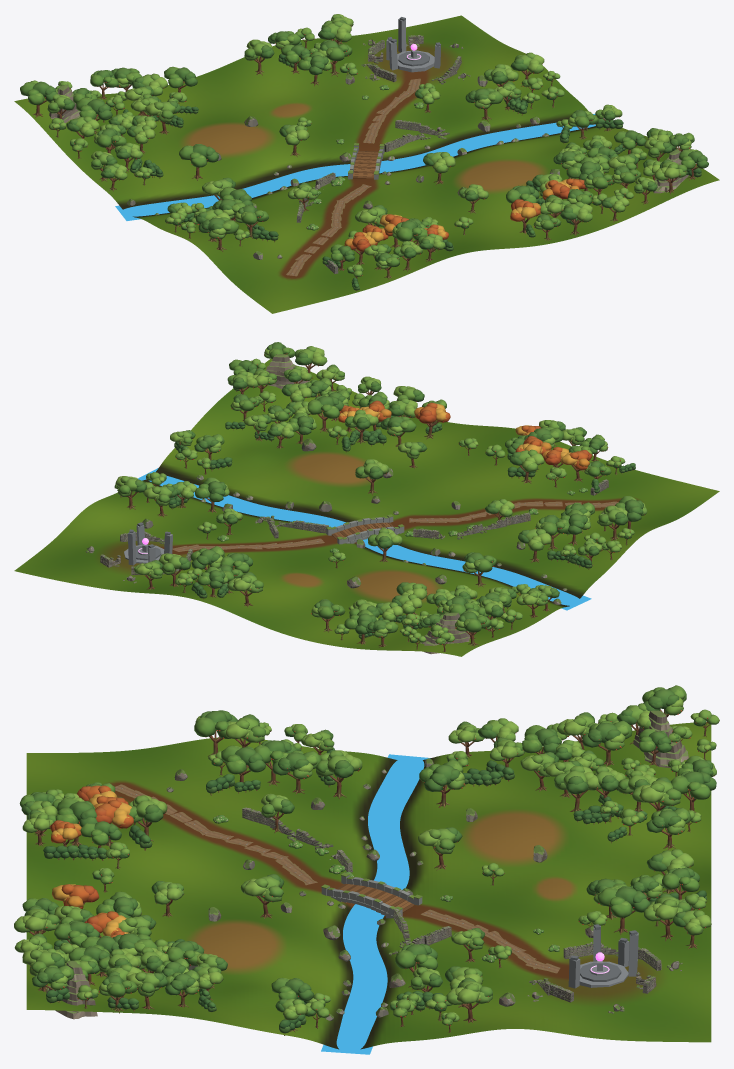
3 renders of one model, top to bottom at view 1: azimuth 30°, elevation 25°; view 2: azimuth 150°, elevation 25°; view 3: azimuth 270°, elevation 25°, orthographic. The views are drawn at different scales.
Parts seen in each view (by area): view 1: Terrain, Brook_Water, apple_tree_mature_b_002_m0, apple_tree_mature_b_026_m0, apple_tree_mature_b_104_m0, apple_tree_mature_b_029_m0, apple_tree_mature_b_013_m0, apple_tree_mature_b_111_m0, apple_tree_mature_b_048_m0, apple_tree_mature_047_m0, apple_tree_mature_b_041_m0, apple_tree_mature_020_m0 (+13 smaller); view 2: Terrain, Brook_Water, mountain_cliff_chunk_237_m0, apple_tree_mature_b_070_m0, mountain_cliff_chunk_238_m0, apple_tree_mature_b_045_m0, apple_tree_mature_b_013_m0, apple_tree_mature_autumn_092_m0, apple_tree_mature_b_029_m0, apple_tree_mature_b_002_m0, apple_tree_mature_007_m0, apple_tree_mature_b_094_m0 (+7 smaller); view 3: Terrain, Brook_Water, apple_tree_mature_b_045_m0, mountain_cliff_chunk_237_m0, apple_tree_mature_b_026_m0, apple_tree_mature_b_002_m0, apple_tree_mature_b_029_m0, apple_tree_mature_b_099_m0, apple_tree_mature_b_100_m0, apple_tree_mature_042_m0, mountain_cliff_chunk_238_m0, apple_tree_mature_b_039_m0 (+41 smaller).
Part boxes in pixels (box(x1,y1,x2,y2)): Terrain: box(14, 15, 719, 313); Brook_Water: box(115, 114, 595, 220); apple_tree_mature_b_002_m0: box(179, 144, 218, 167); apple_tree_mature_b_026_m0: box(76, 97, 112, 120); apple_tree_mature_b_104_m0: box(198, 217, 238, 239); apple_tree_mature_b_029_m0: box(20, 81, 57, 104); apple_tree_mature_b_013_m0: box(465, 88, 503, 108); apple_tree_mature_b_111_m0: box(392, 220, 427, 241); apple_tree_mature_b_048_m0: box(298, 51, 331, 74); apple_tree_mature_047_m0: box(318, 20, 351, 42); apple_tree_mature_b_041_m0: box(164, 66, 197, 88); apple_tree_mature_020_m0: box(145, 101, 181, 122); Terrain: box(14, 358, 719, 656); Brook_Water: box(138, 468, 591, 610); mountain_cliff_chunk_237_m0: box(420, 612, 469, 654); apple_tree_mature_b_070_m0: box(307, 396, 343, 418); mountain_cliff_chunk_238_m0: box(265, 354, 309, 389); apple_tree_mature_b_045_m0: box(190, 546, 224, 569); apple_tree_mature_b_013_m0: box(195, 477, 229, 501); apple_tree_mature_autumn_092_m0: box(414, 402, 450, 423); apple_tree_mature_b_029_m0: box(455, 611, 491, 632); apple_tree_mature_b_002_m0: box(462, 552, 496, 572); apple_tree_mature_007_m0: box(509, 449, 544, 471); apple_tree_mature_b_094_m0: box(380, 416, 416, 436); Terrain: box(26, 722, 711, 1049); Brook_Water: box(321, 754, 430, 1054); apple_tree_mature_b_045_m0: box(597, 886, 650, 917); mountain_cliff_chunk_237_m0: box(633, 710, 688, 767); apple_tree_mature_b_026_m0: box(582, 720, 632, 750); apple_tree_mature_b_002_m0: box(419, 759, 465, 791); apple_tree_mature_b_029_m0: box(642, 685, 686, 715); apple_tree_mature_b_099_m0: box(272, 750, 321, 779); apple_tree_mature_b_100_m0: box(221, 745, 265, 774); apple_tree_mature_042_m0: box(632, 777, 681, 805); mountain_cliff_chunk_238_m0: box(46, 960, 97, 1019); apple_tree_mature_b_039_m0: box(671, 771, 716, 799).
Bounding box in the file's own units: 83.06 × 10.18 × 82.48.
